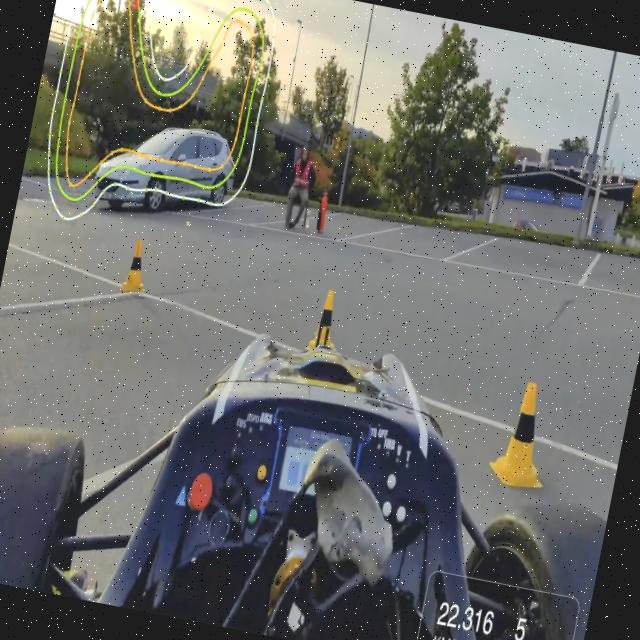yellow_cone: (497, 383, 557, 498), (306, 282, 353, 356), (116, 235, 156, 298)
